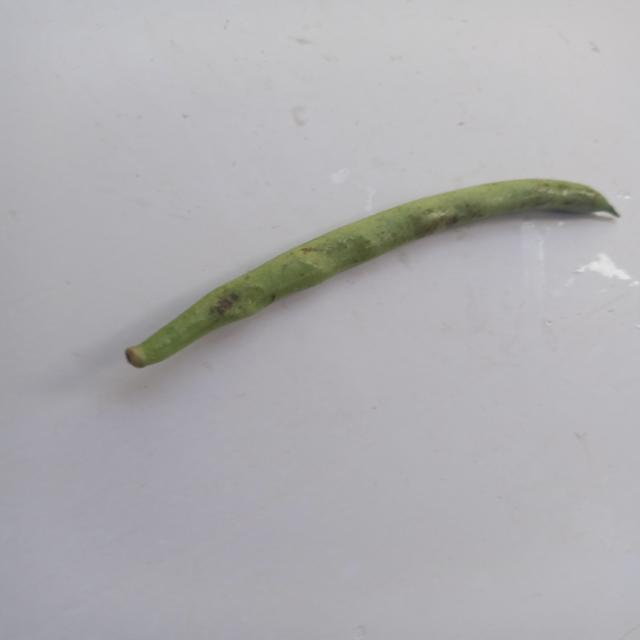Beans: (107, 164, 640, 381)
